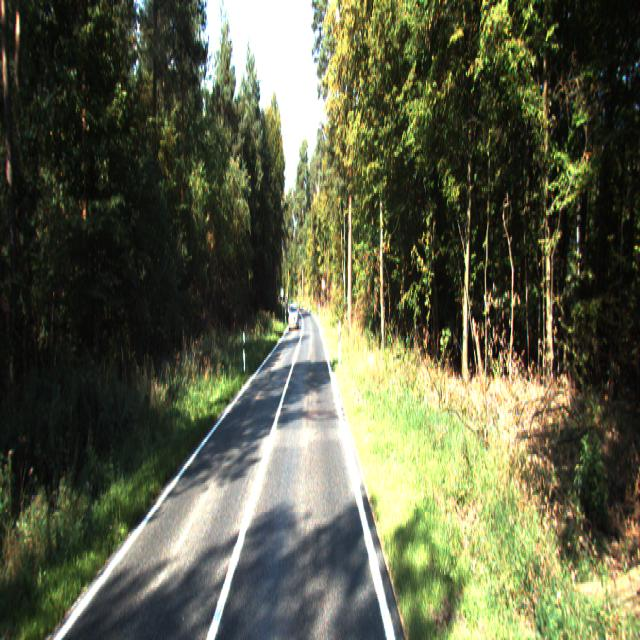Car: (288, 305, 299, 332)
